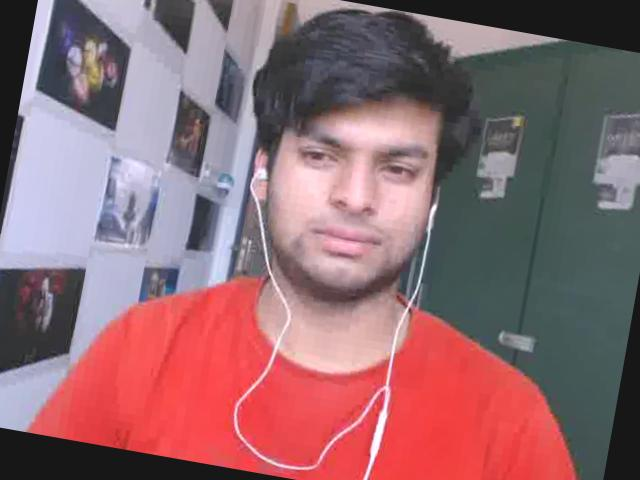bingung: (248, 69, 447, 301)
